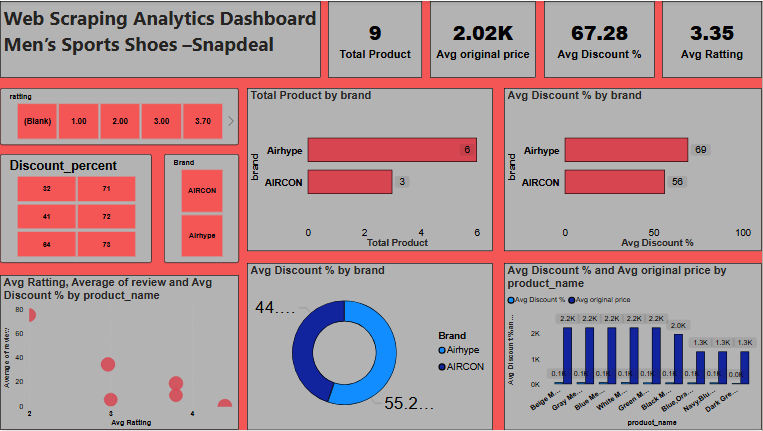

This screenshot's page, from the dashboard's own definition file:
{"tool":"powerbi","page":{"name":"Page 1","canvas":[1280,720],"ordinal":0},"visuals":[{"type":"card","fields":{"Values":["Data_Scrapping.Total Product"]},"box":[551,0,157.9,129.3],"z":0},{"type":"card","fields":{"Values":["Data_Scrapping.Avg Discount %"]},"box":[913.8,0,186.5,129.3],"z":1000},{"type":"card","fields":{"Values":["Data_Scrapping.Avg original price"]},"box":[722.3,0,178.1,129.3],"z":2000},{"type":"card","fields":{"Values":["Data_Scrapping.Avg Ratting"]},"box":[1112,0,168,129.3],"z":3000},{"type":"clusteredBarChart","fields":{"Category":["Data_Scrapping.brand"],"Y":["Data_Scrapping.Total Product"]},"box":[414.9,146.1,413.2,273.8],"z":4000},{"type":"barChart","fields":{"Category":["Data_Scrapping.brand"],"Y":["Data_Scrapping.Avg Discount %"]},"box":[846.6,146.1,433.4,273.8],"z":5000},{"type":"clusteredColumnChart","fields":{"Category":["Data_Scrapping.product_name"],"Y":["Data_Scrapping.Avg Discount %","Data_Scrapping.Avg original price"]},"box":[846.6,440.1,433.4,280.5],"z":6000},{"type":"scatterChart","fields":{"X":["Data_Scrapping.Avg Ratting"],"Y":["Avg(Data_Scrapping.review)"],"Category":["Data_Scrapping.product_name"],"Size":["Data_Scrapping.Avg Discount %"]},"box":[0,460.3,401.5,260.4],"z":7000},{"type":"donutChart","fields":{"Category":["Data_Scrapping.brand"],"Y":["Data_Scrapping.Avg Discount %"]},"box":[414.9,440.1,413.2,280.5],"z":8000},{"type":"slicer","fields":{"Values":["Data_Scrapping.brand"]},"box":[275.5,257,126,183.1],"z":9000},{"type":"slicer","fields":{"Values":["Data_Scrapping.discount_percent"]},"box":[0,257,255.3,183.1],"z":10000},{"type":"slicer","fields":{"Values":["Data_Scrapping.ratting"]},"box":[0,146.1,401.5,95.7],"z":11000},{"type":"textbox","box":[0,0,539.2,129.3],"z":12000}]}

Visuals, with their boxes in screenshot pixels (x1, y1, x2, y2), scaled from the page's 1280x720 canvas onto the 763x431 screenshot:
card - Data_Scrapping.Total Product: box(328, 0, 423, 77)
card - Data_Scrapping.Avg Discount %: box(545, 0, 656, 77)
card - Data_Scrapping.Avg original price: box(431, 0, 537, 77)
card - Data_Scrapping.Avg Ratting: box(663, 0, 762, 77)
clusteredBarChart - Data_Scrapping.brand x Data_Scrapping.Total Product: box(247, 87, 494, 251)
barChart - Data_Scrapping.brand x Data_Scrapping.Avg Discount %: box(505, 87, 762, 251)
clusteredColumnChart - Data_Scrapping.product_name x Data_Scrapping.Avg Discount %: box(505, 263, 762, 430)
scatterChart - Data_Scrapping.Avg Ratting x Avg(Data_Scrapping.review): box(0, 276, 239, 430)
donutChart - Data_Scrapping.brand x Data_Scrapping.Avg Discount %: box(247, 263, 494, 430)
slicer - Data_Scrapping.brand: box(164, 154, 239, 263)
slicer - Data_Scrapping.discount_percent: box(0, 154, 152, 263)
slicer - Data_Scrapping.ratting: box(0, 87, 239, 145)
textbox: box(0, 0, 321, 77)
